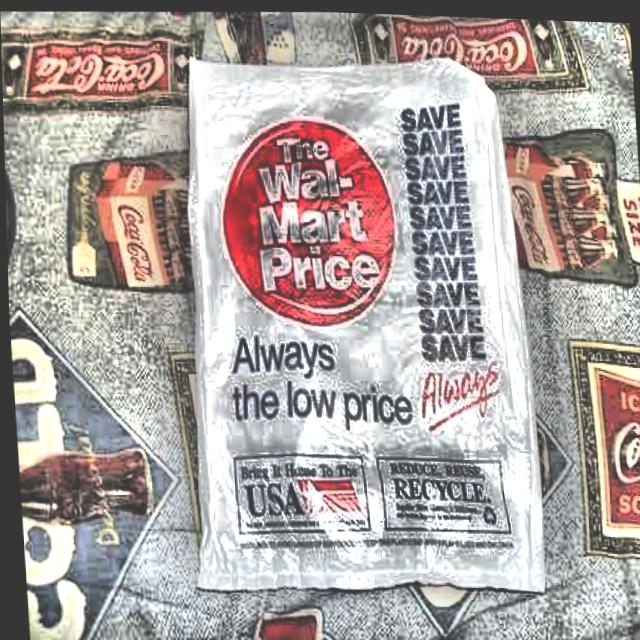Plastic: (165, 33, 570, 619)
